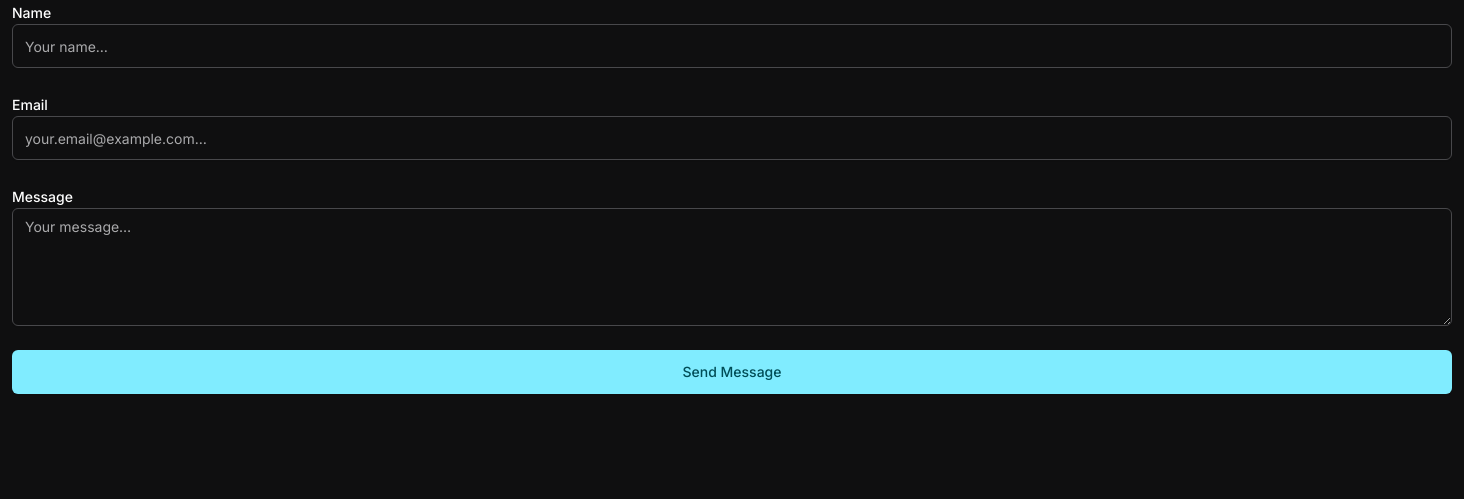
Test: ContactForm › shows error message on failure
The image size is (1464, 499).
Type "John Doe" into the field labelled "Name" at (732, 46), box [12,24,1452,68]
Press Tab
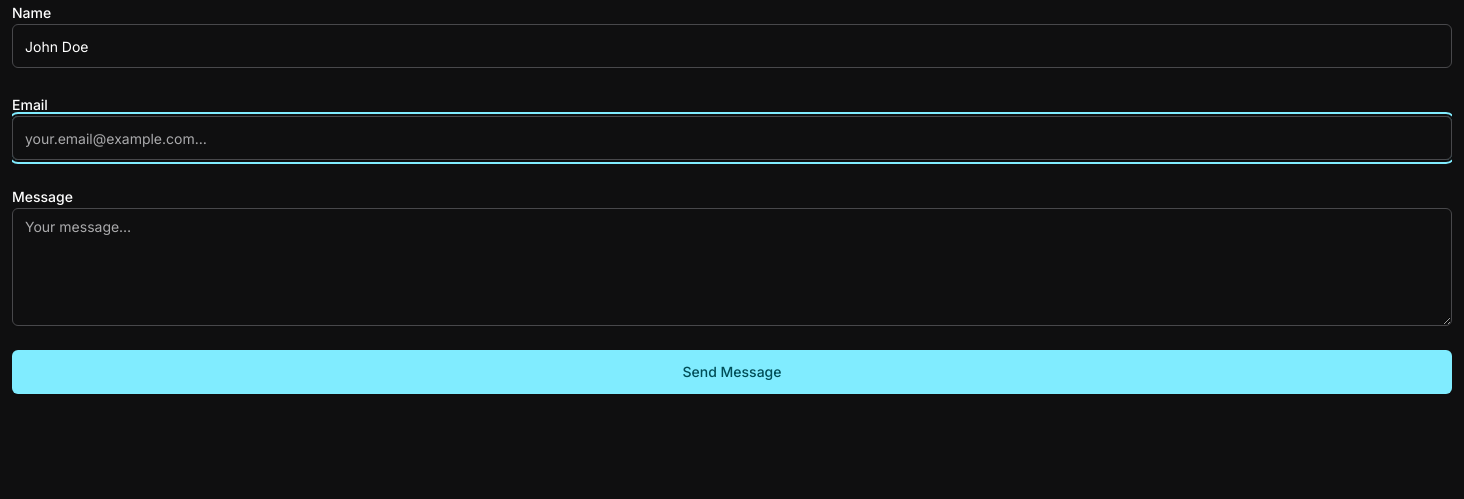
Type "john@example.com" into the field labelled "Email" at (732, 138), box [12,116,1452,160]
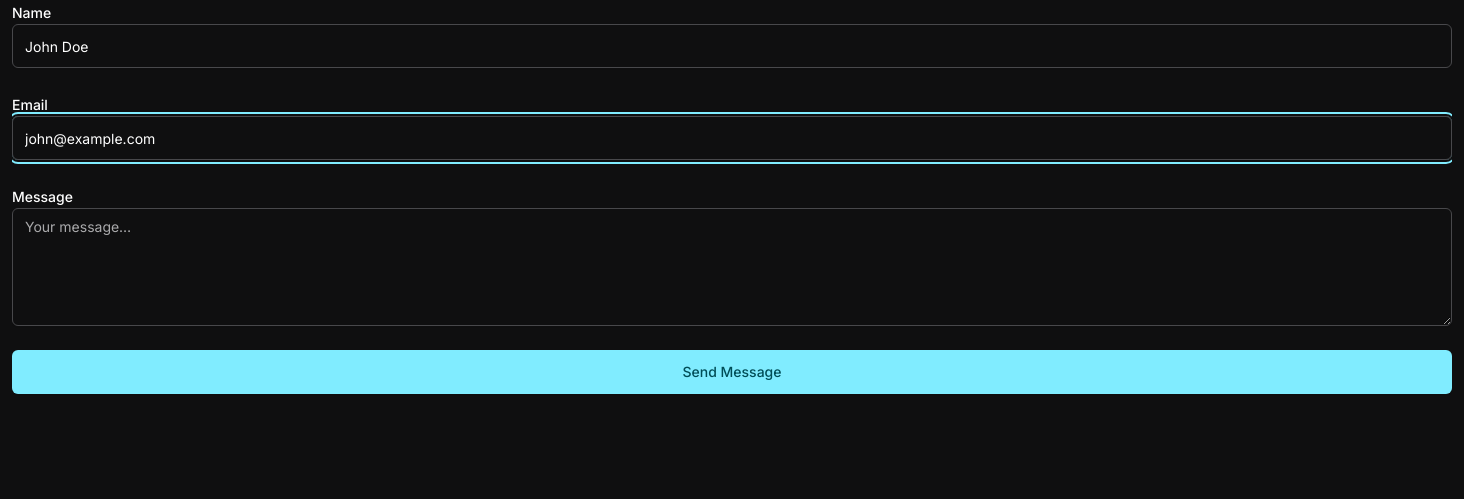
Press Tab
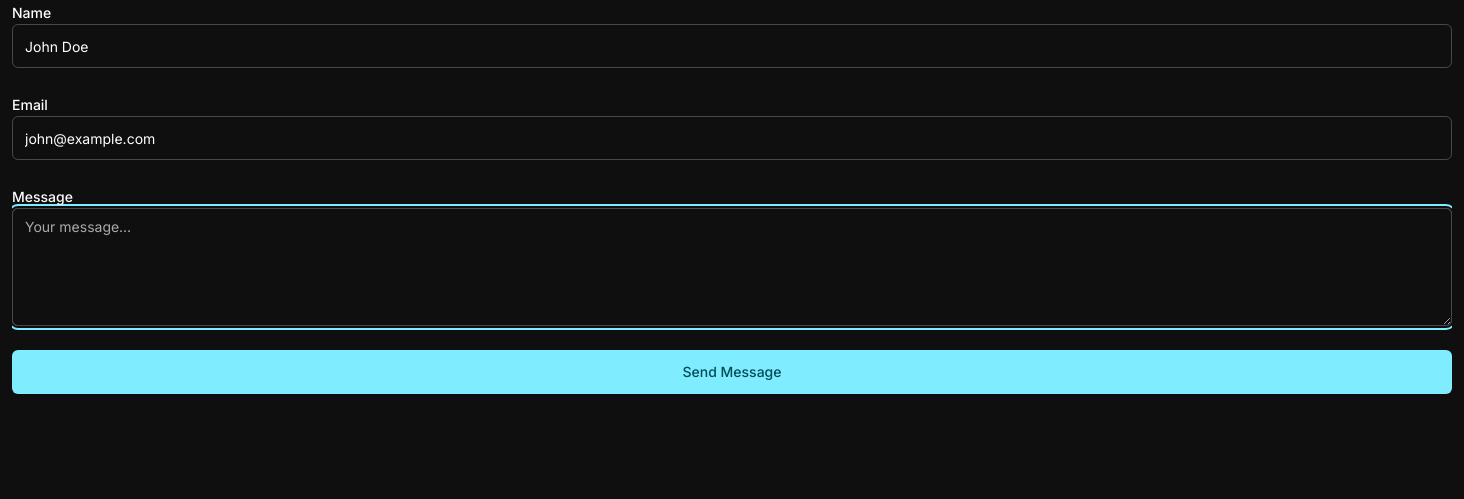
Type "This is a test message that is long enough for validation." into the text box labelled "Message" at (732, 267), box [12,208,1452,326]
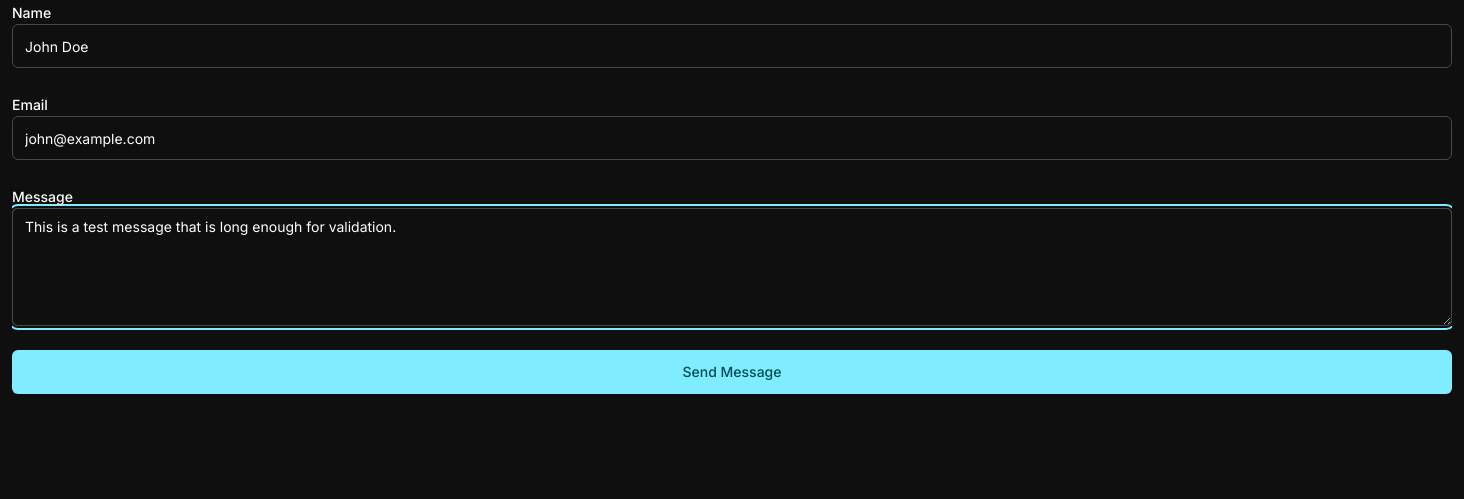
Press Tab
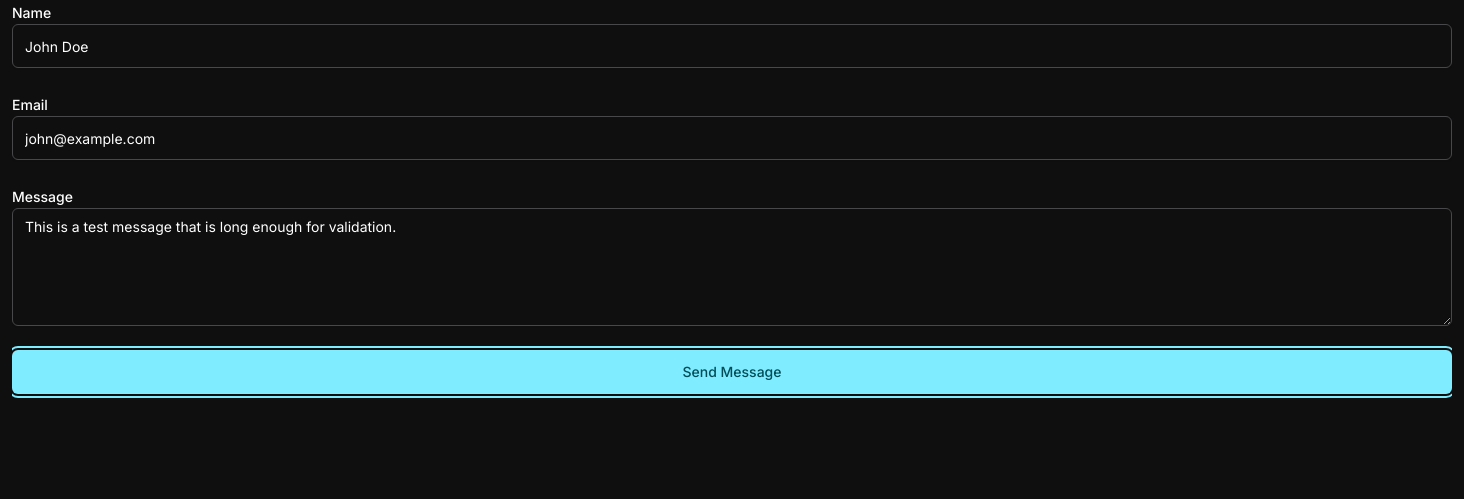
Click the button "Send Message" at (732, 372), box [12,350,1452,394]
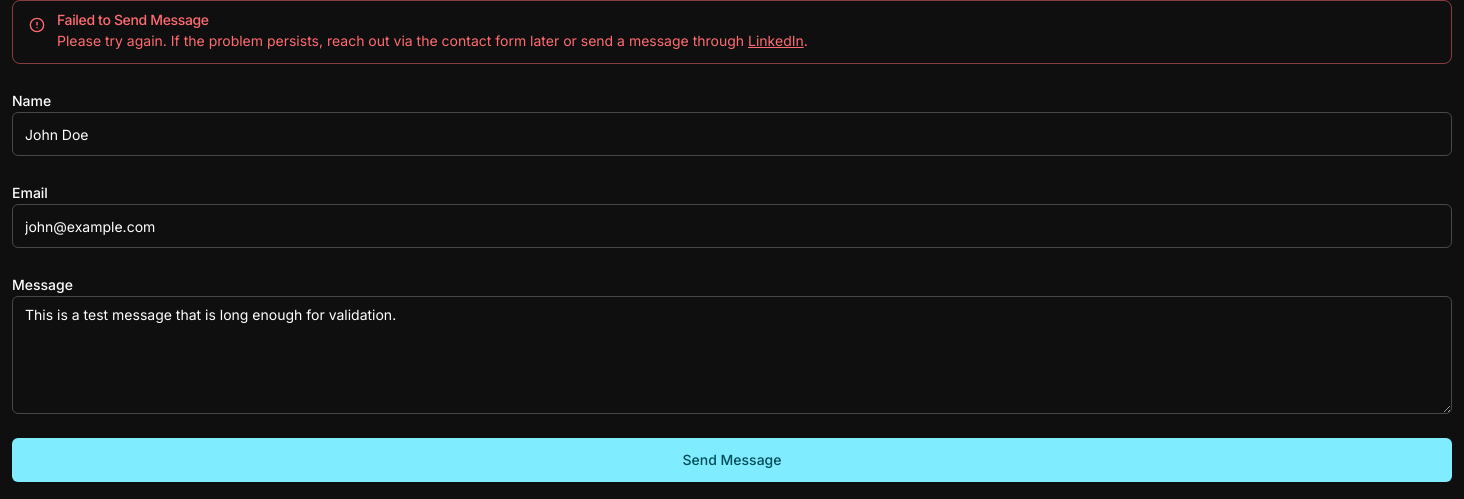
expect the heading "Failed to Send Message" is shown: met, box [57,11,209,28]
